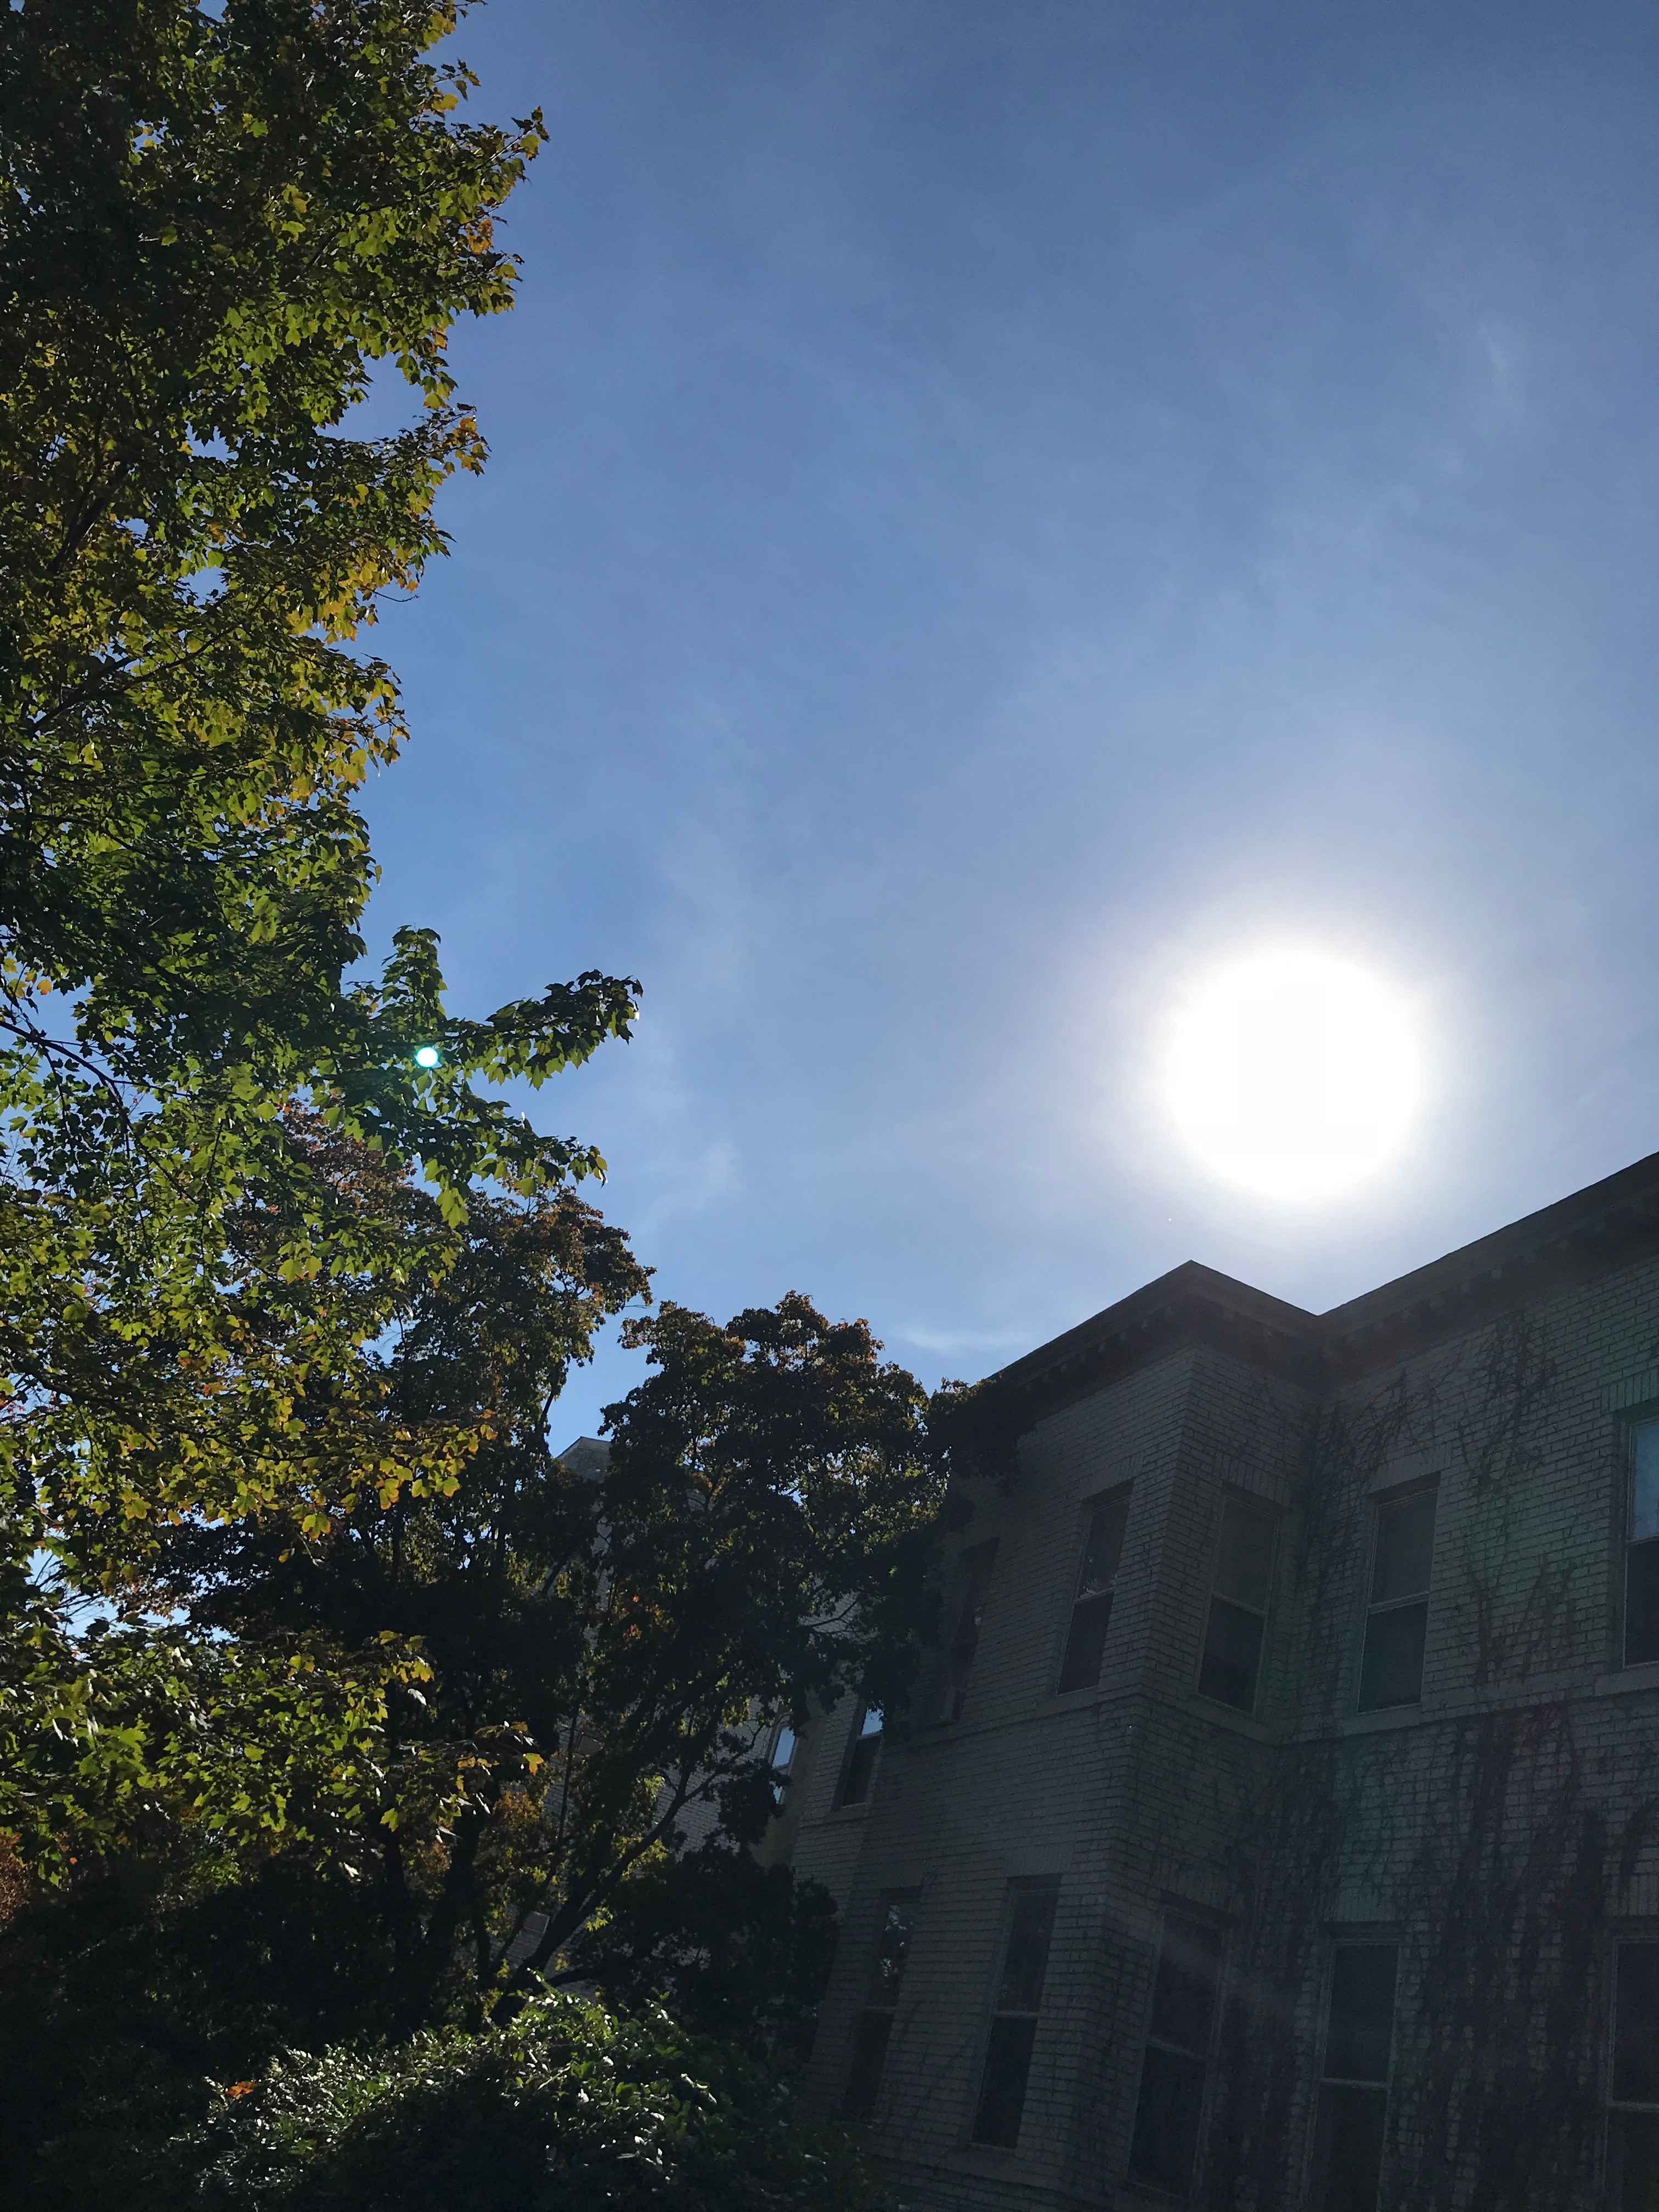flare: (416, 1045, 439, 1069)
